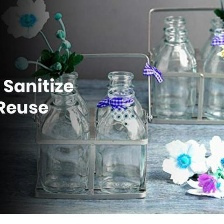bottle: (36, 77, 93, 195), (93, 83, 149, 199), (147, 26, 199, 124), (200, 26, 224, 122)
